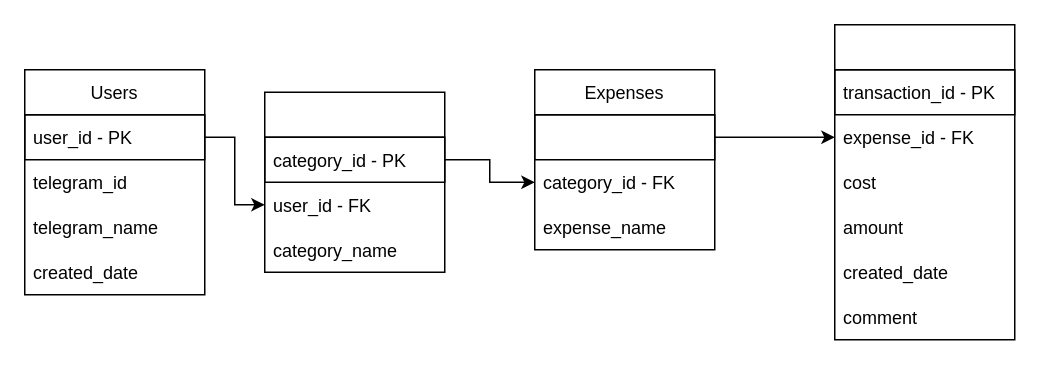
Image size: 1040x365. Some labels were removed from this diagram. Here are the shapes that lost their labels. From the top down, the box of each, then its label:
(533, 113, 715, 160): expense_id - PK
(263, 91, 445, 272): Categories
(833, 23, 1015, 340): Transactions
